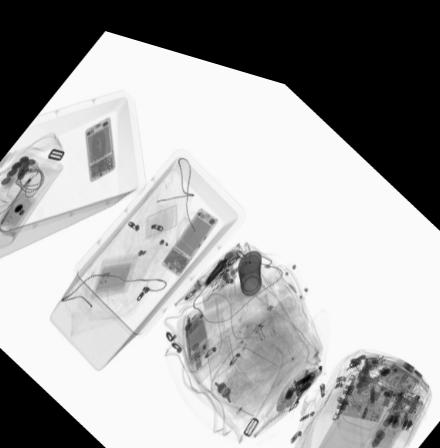Knife: (202, 242, 227, 273)
